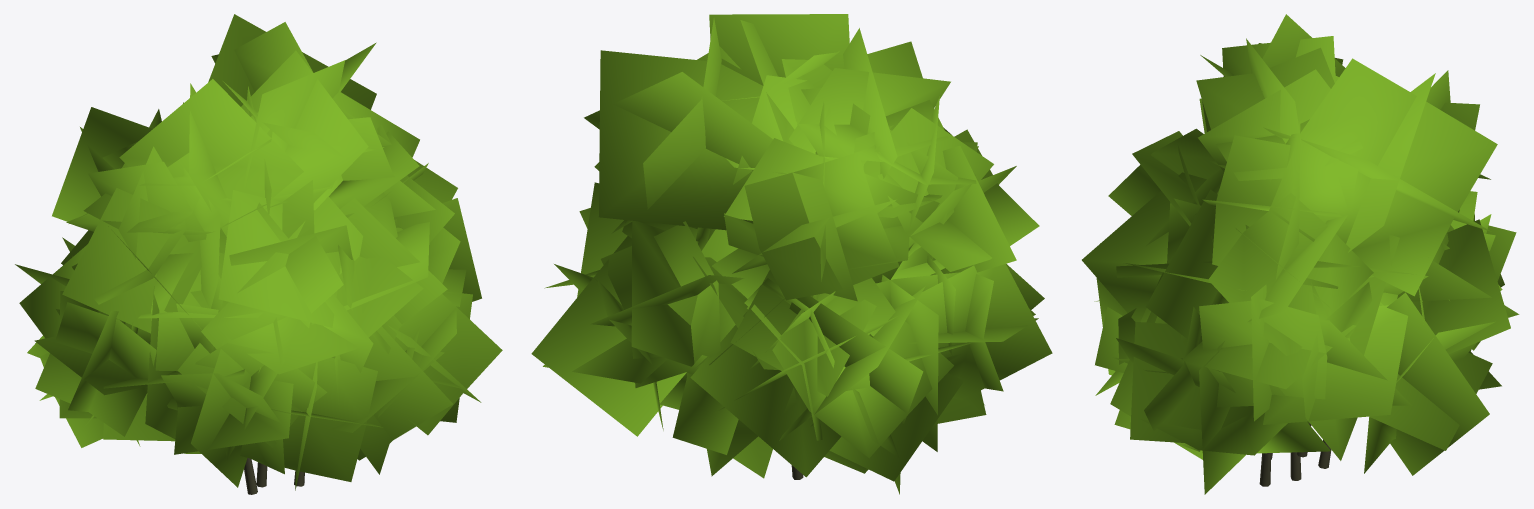
Rendered from SM_Bush3_Dry.fbx.
3 renders of one model, left to right at view 1: azimuth 30°, elevation 25°; view 2: azimuth 150°, elevation 25°; view 3: azimuth 270°, elevation 25°, orthographic. The views are drawn at different scales.
Parts seen in each view (by area): view 1: Bush3; view 2: Bush3; view 3: Bush3.
Boxes of the visible parts, x1,y1,x2,y2 form: Bush3: [15, 14, 502, 494]; Bush3: [531, 14, 1052, 494]; Bush3: [1082, 14, 1519, 494].
Bounding box in the file's own units: 461 × 453 × 403.
